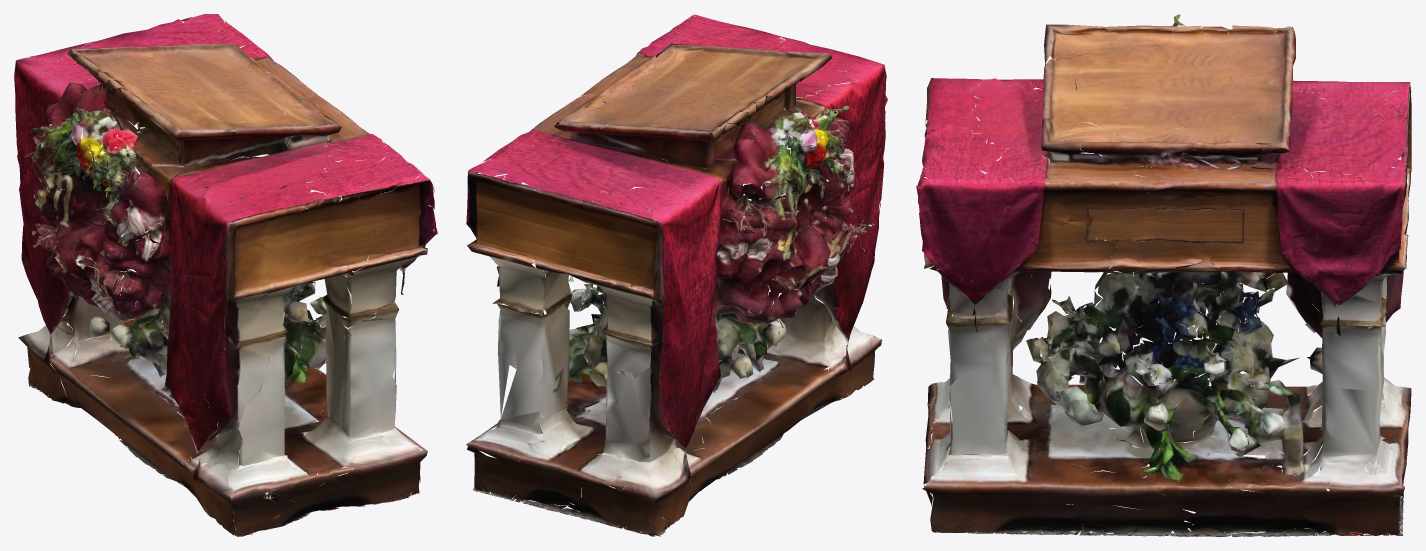
The model's file is Pedit2.gltf.
3 renders of one model, left to right at view 1: azimuth 30°, elevation 25°; view 2: azimuth 150°, elevation 25°; view 3: azimuth 270°, elevation 25°, orthographic. The views are drawn at different scales.
Parts seen in each view (by area): view 1: Mesh_0; view 2: Mesh_0; view 3: Mesh_0.
Part boxes in pixels (<box>): Mesh_0: <box>14,14,437,536</box>; Mesh_0: <box>466,14,887,536</box>; Mesh_0: <box>916,14,1411,536</box>.
Bounding box in the file's own units: 0.6568 × 0.8335 × 0.9105.
Materials: 1 (1 with a texture image).
